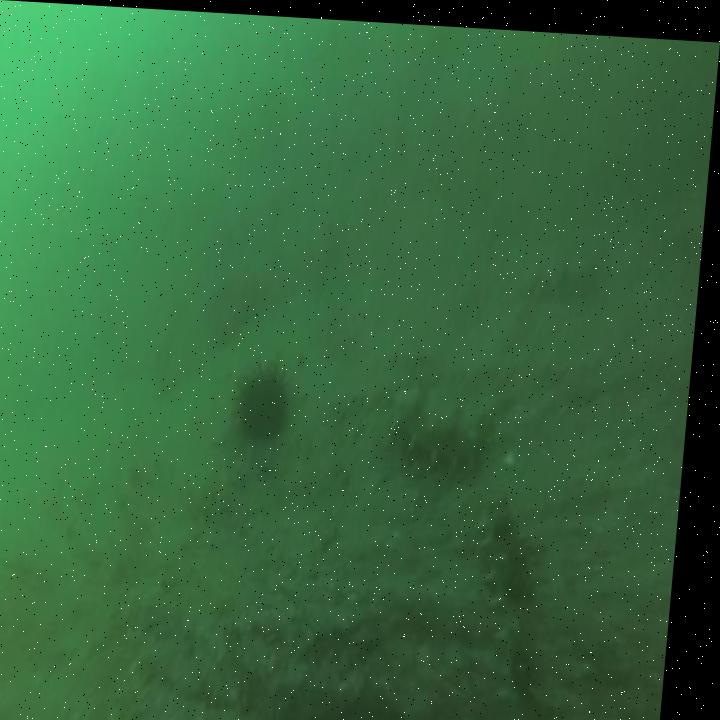echinus: (243, 363, 295, 436)
holothurian: (467, 486, 561, 720), (393, 380, 493, 470)
